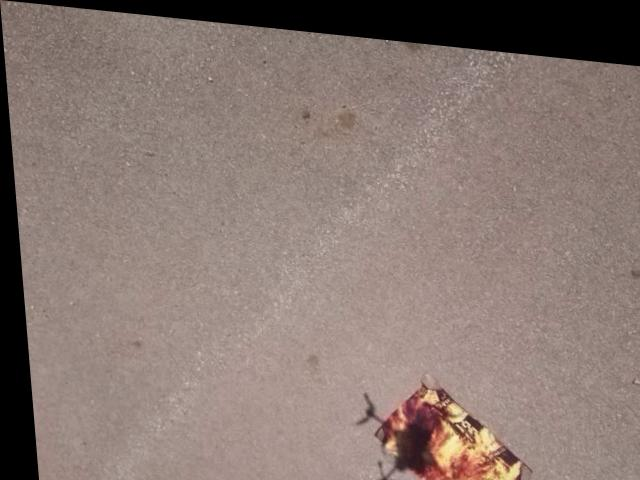fire-poster: (357, 358, 529, 480)
